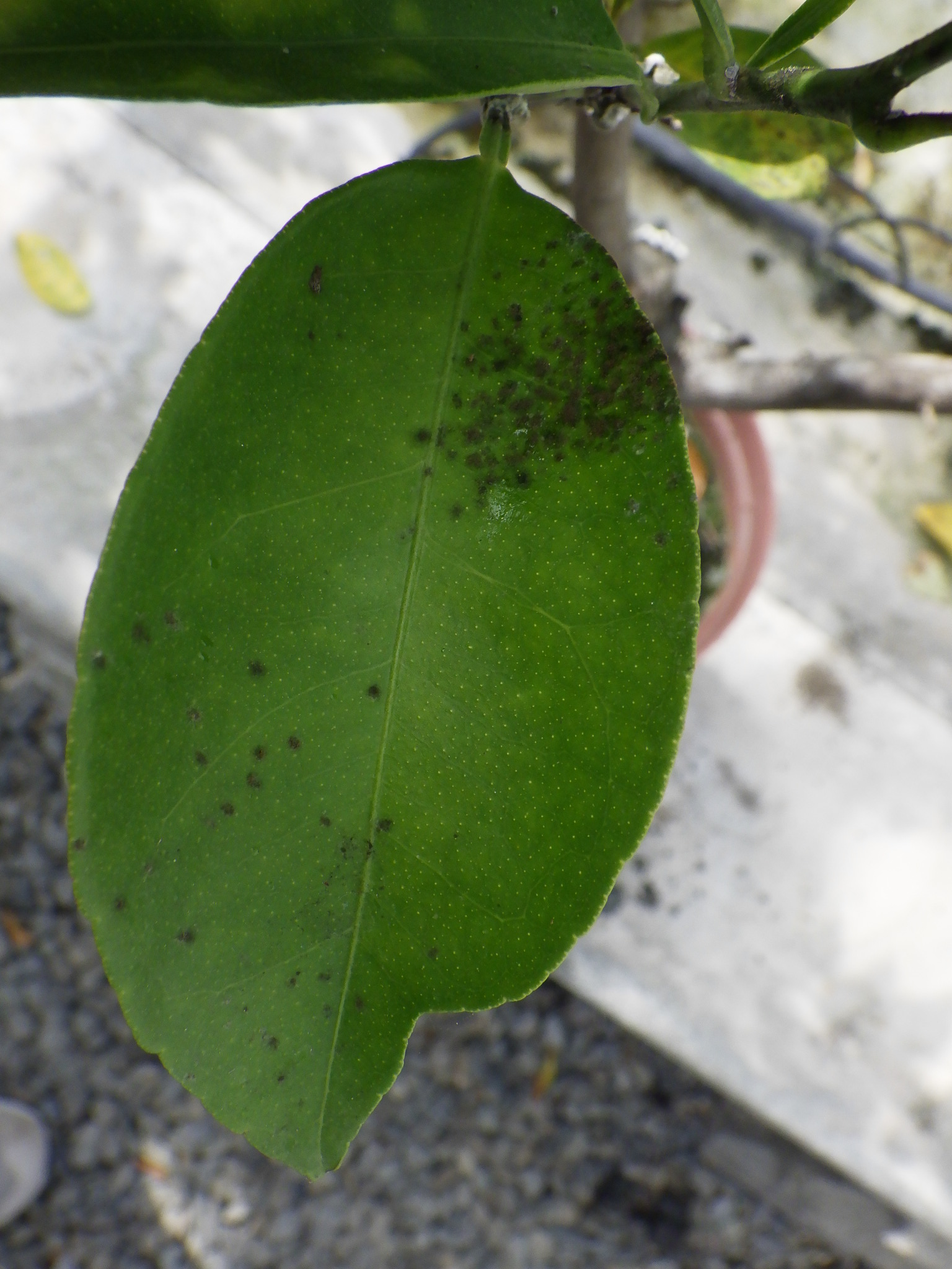Sooty_Mold: (68, 153, 699, 1174)
